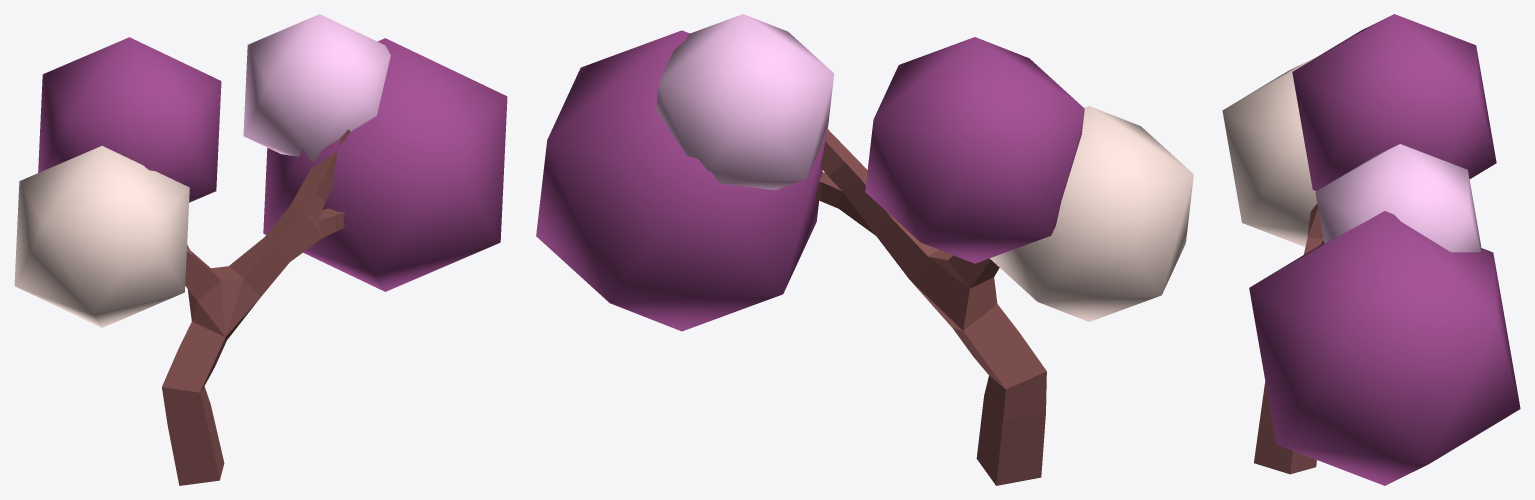
Rendered from treepink.glb.
3 renders of one model, left to right at view 1: azimuth 30°, elevation 25°; view 2: azimuth 150°, elevation 25°; view 3: azimuth 270°, elevation 25°, orthographic. The views are drawn at different scales.
Visible parts, largest first — view 1: ทรงกลม Ico.003, ทรงกลม Ico, ทรงกลม Ico.001, Cube, ทรงกลม Ico.002; view 2: ทรงกลม Ico.003, ทรงกลม Ico.001, ทรงกลม Ico, ทรงกลม Ico.002, Cube; view 3: ทรงกลม Ico.003, ทรงกลม Ico.001, ทรงกลม Ico.002, ทรงกลม Ico, Cube.
Part boxes in pixels (left/top/right/bottom): ทรงกลม Ico.003: left=263, top=38, right=507, bottom=291; ทรงกลม Ico: left=14, top=146, right=189, bottom=327; ทรงกลม Ico.001: left=38, top=37, right=221, bottom=202; Cube: left=162, top=129, right=350, bottom=485; ทรงกลม Ico.002: left=243, top=14, right=390, bottom=161; ทรงกลม Ico.003: left=536, top=30, right=827, bottom=331; ทรงกลม Ico.001: left=865, top=37, right=1084, bottom=263; ทรงกลม Ico: left=990, top=106, right=1193, bottom=321; ทรงกลม Ico.002: left=656, top=14, right=834, bottom=190; Cube: left=815, top=129, right=1046, bottom=485; ทรงกลม Ico.003: left=1249, top=211, right=1520, bottom=485; ทรงกลม Ico.001: left=1292, top=14, right=1496, bottom=191; ทรงกลม Ico.002: left=1315, top=144, right=1481, bottom=252; ทรงกลม Ico: left=1222, top=56, right=1318, bottom=246; Cube: left=1254, top=204, right=1323, bottom=474.
Size of the model in its own units: 5.79 by 4.61 by 2.81.
